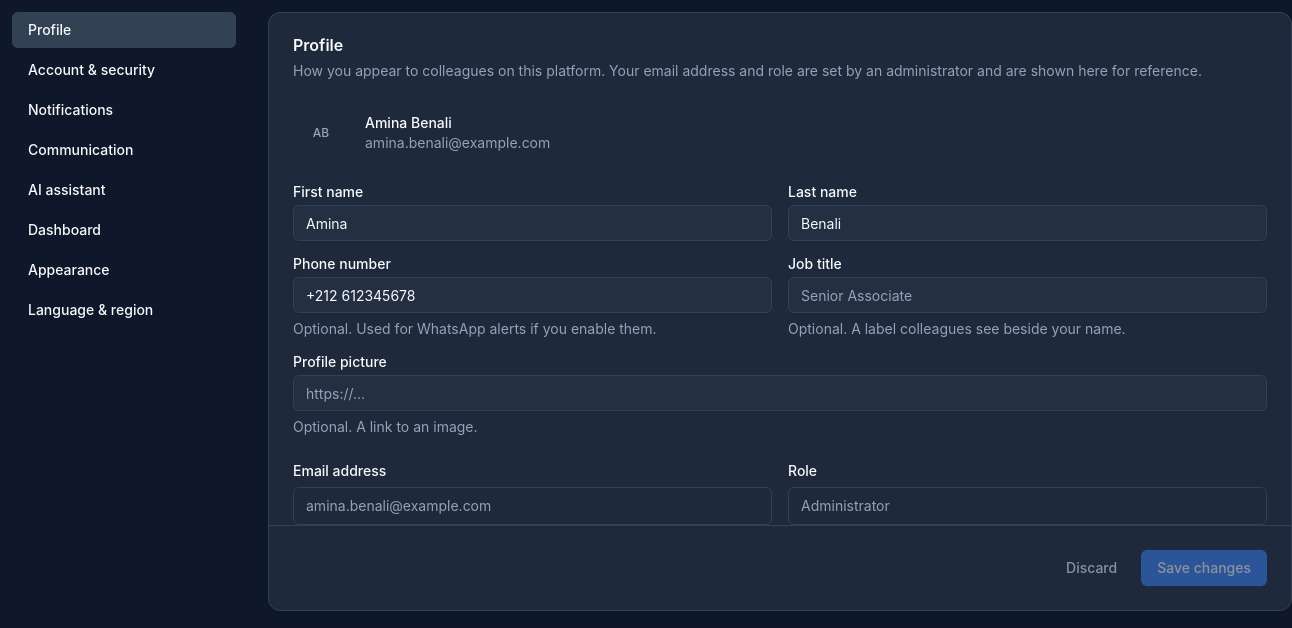
setting controls › says when a value is the platform's default rather than a choice
Click the button "Appearance" at point(124, 270), box [12,252,236,288]
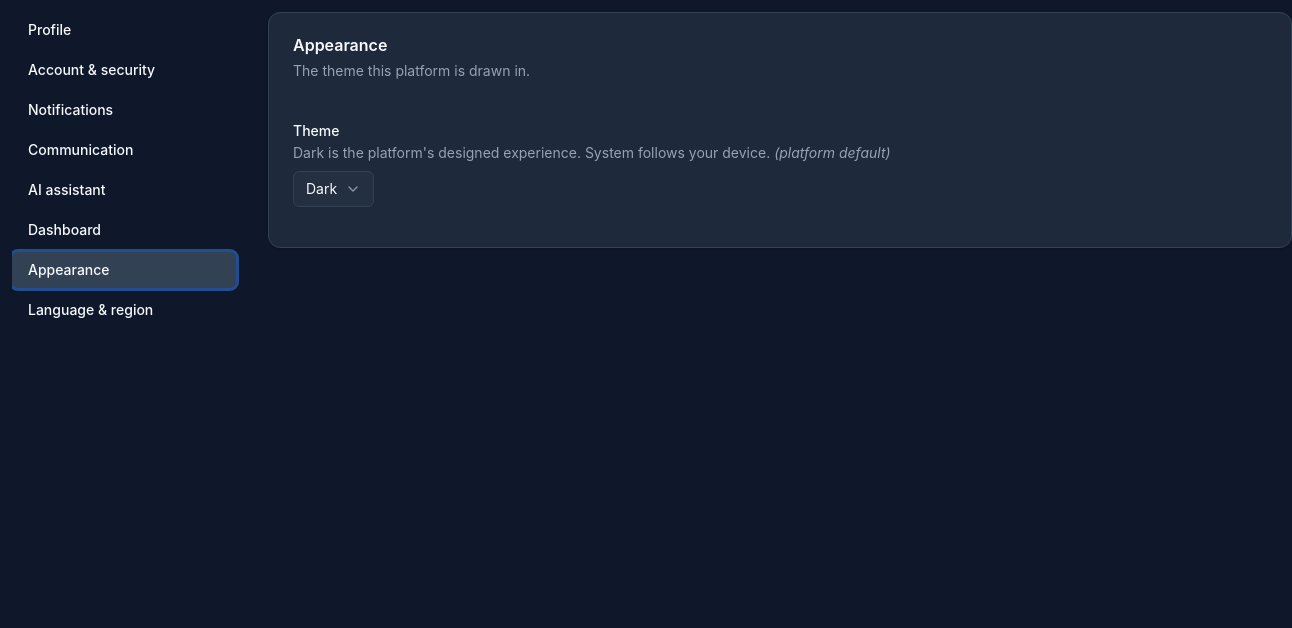
Expected: the text "(platform default)" is shown, [770,144,891,161]
